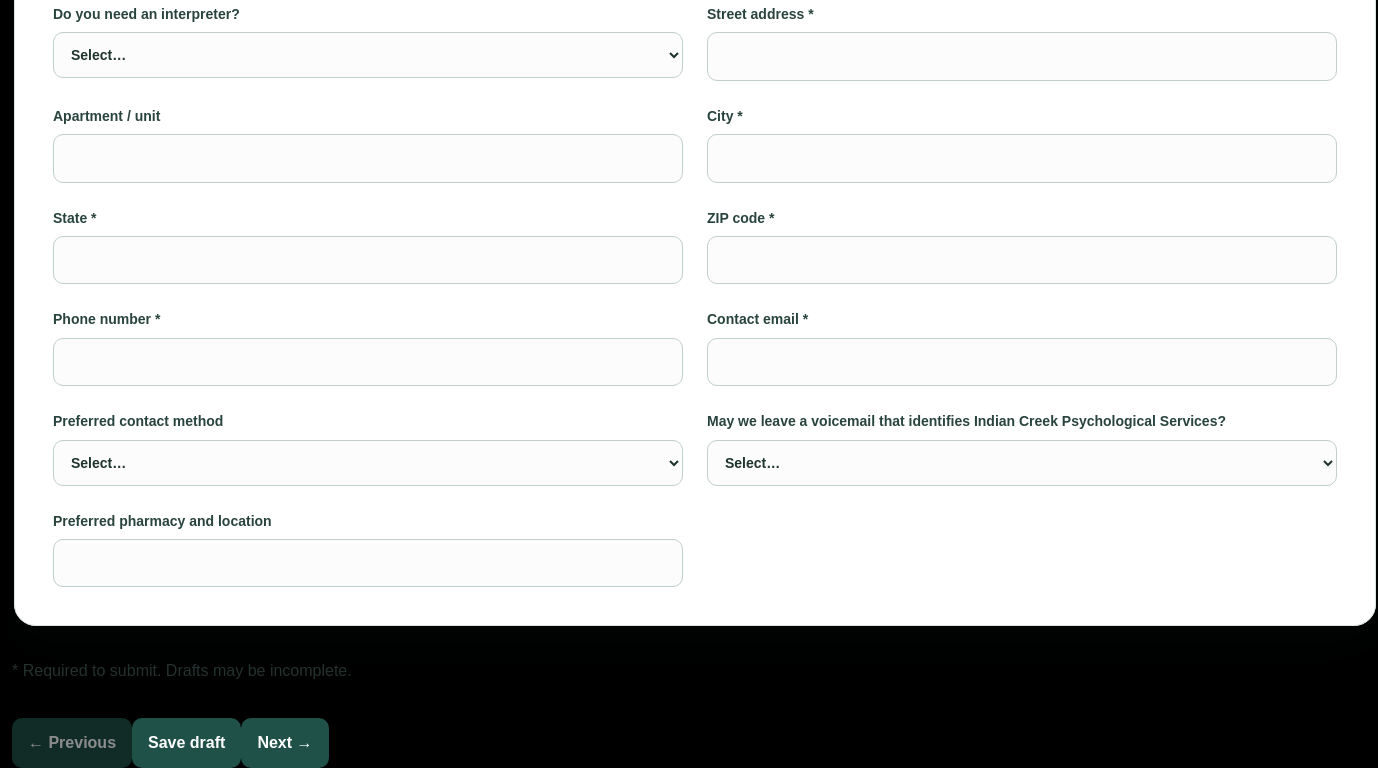
Test case: draft save accepts incomplete answers and confirms success
The image size is (1378, 768).
(page scrolled)
Step 1. Click the button "Save draft" → (187, 743), box [132,718,241,767]
(page scrolled)
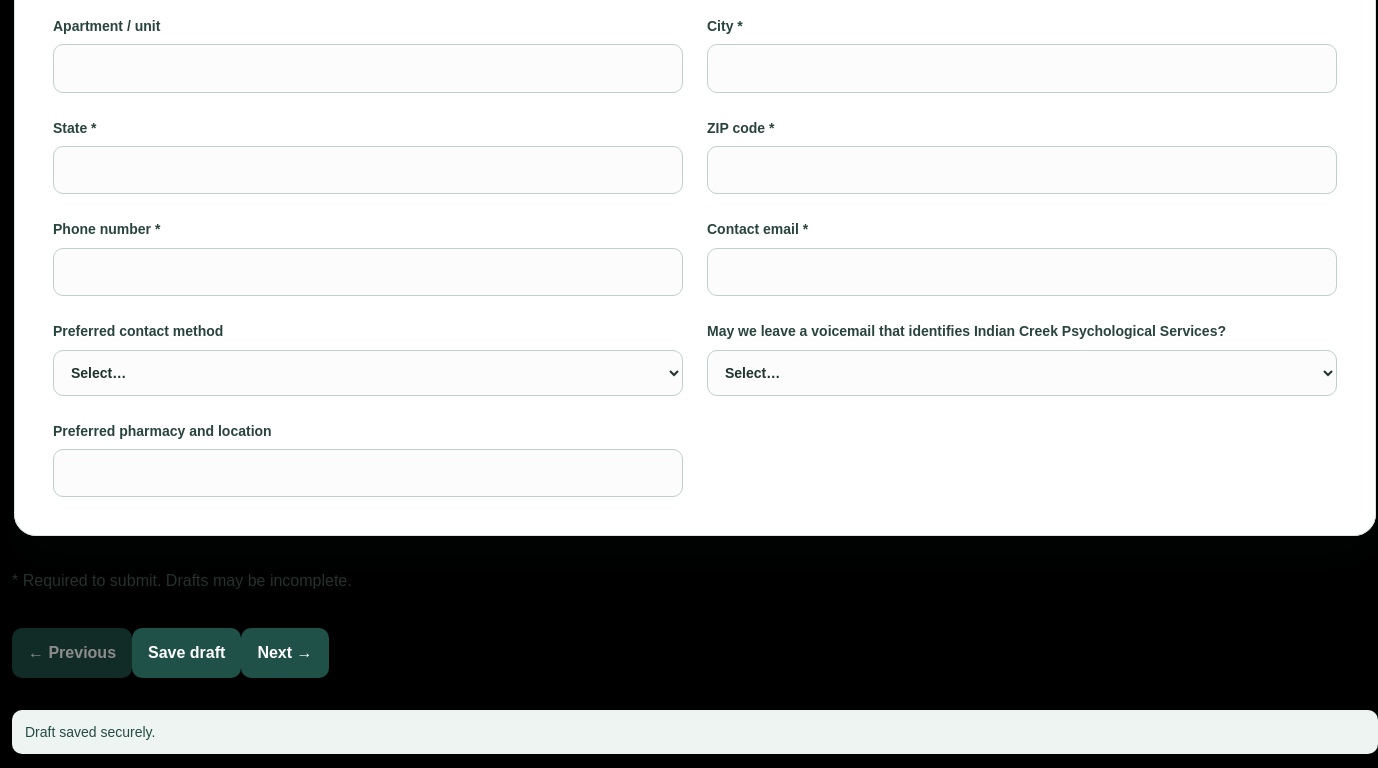
Result: the text "Draft saved securely." is shown at [12,710,1377,754]
